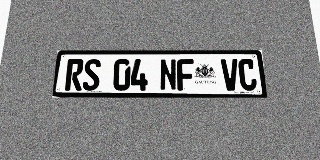0: (113, 59, 131, 91)
4: (130, 59, 148, 91)
C: (238, 59, 257, 91)
F: (177, 59, 194, 91)
N: (160, 59, 177, 91)
R: (64, 59, 84, 91)
S: (82, 59, 101, 91)
V: (221, 59, 240, 91)
